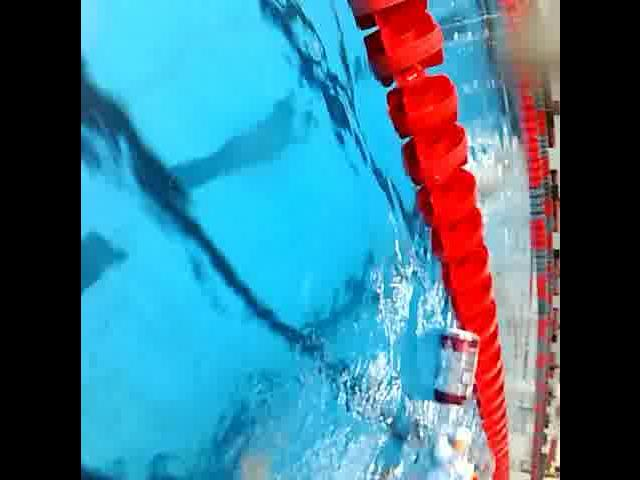Can: (430, 326, 480, 407)
